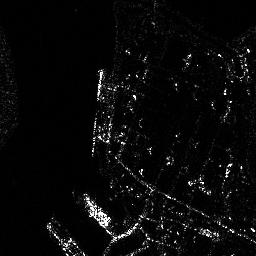ship: (81, 191, 112, 228)
